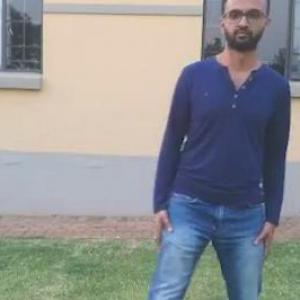follow: (166, 0, 285, 299)
